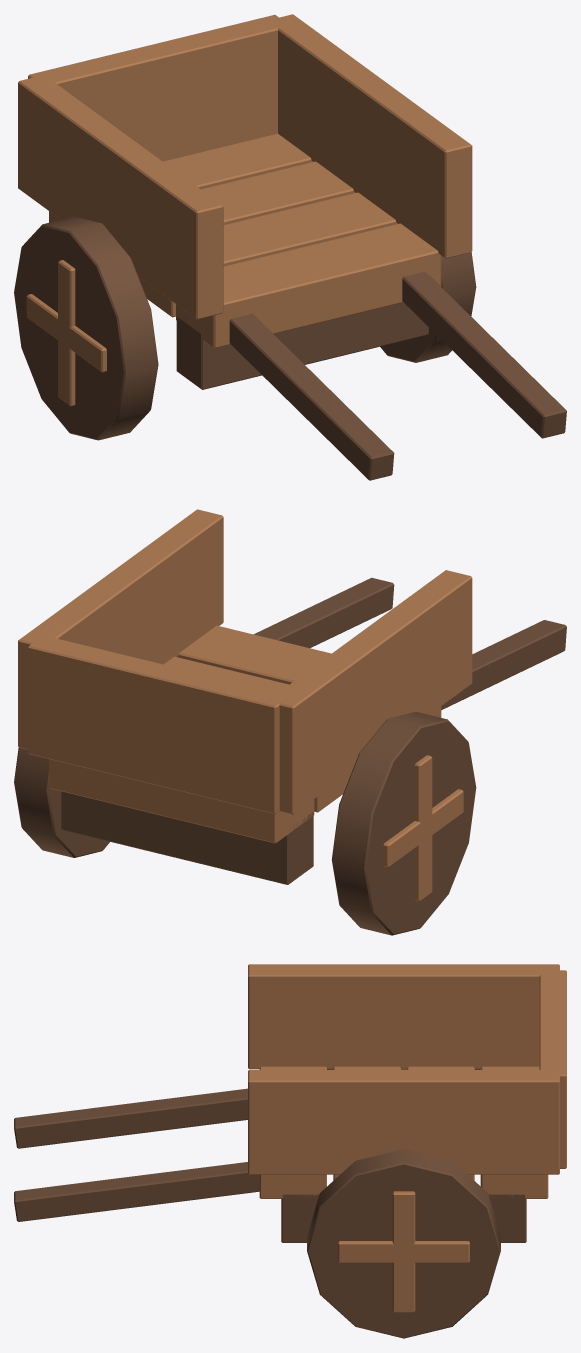
Rendered from wood_cart_empty_01.glb.
3 views of the same model, one above another, from view 1: azimuth 30°, elevation 25°; view 2: azimuth 150°, elevation 25°; view 3: azimuth 270°, elevation 25° (orthographic). The views are drawn at different scales.
Parts seen in each view (by area): view 1: wood_cart_empty_01; view 2: wood_cart_empty_01; view 3: wood_cart_empty_01.
Part boxes in pixels (x1,y1,x2,y2): wood_cart_empty_01: (14, 14, 566, 480); wood_cart_empty_01: (14, 509, 566, 935); wood_cart_empty_01: (14, 964, 566, 1338).
Size of the model in its own units: 1.05 by 0.77 by 1.59.
